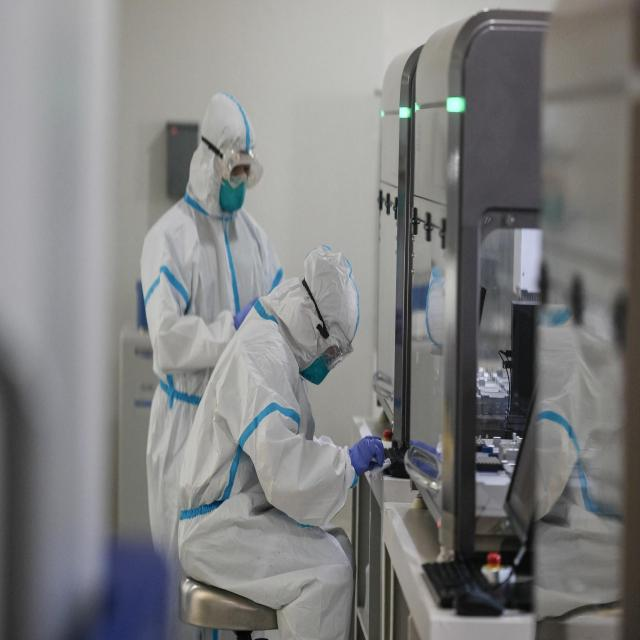Coverall: (174, 240, 383, 640), (136, 87, 284, 550)
Gloves: (349, 434, 388, 477)
Goggles: (214, 144, 264, 192)
Mask: (217, 177, 248, 220), (300, 355, 328, 385)
